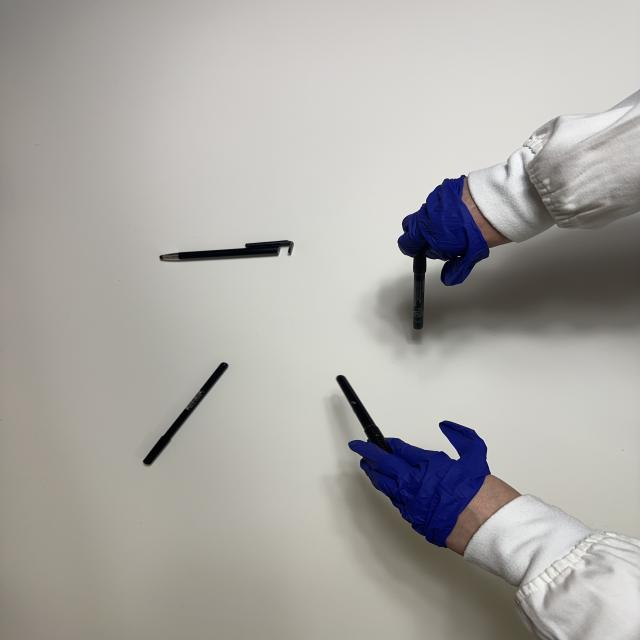glove_partial: (347, 420, 530, 559), (398, 172, 518, 288)
